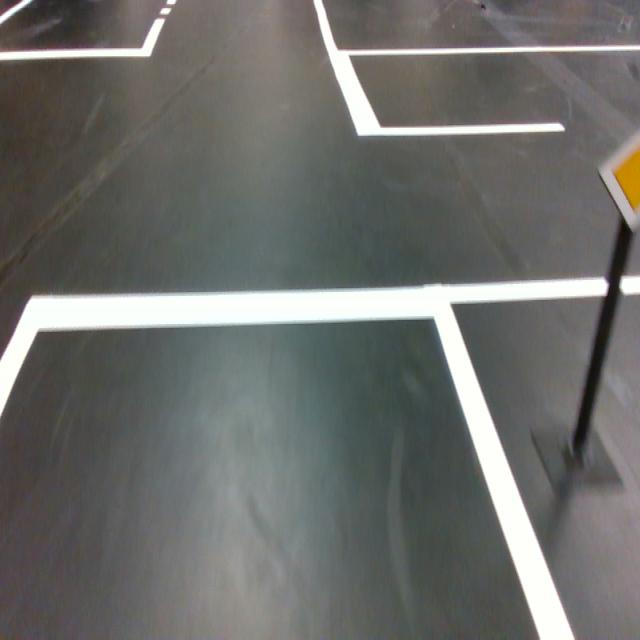priority-sign: (595, 124, 640, 235)
